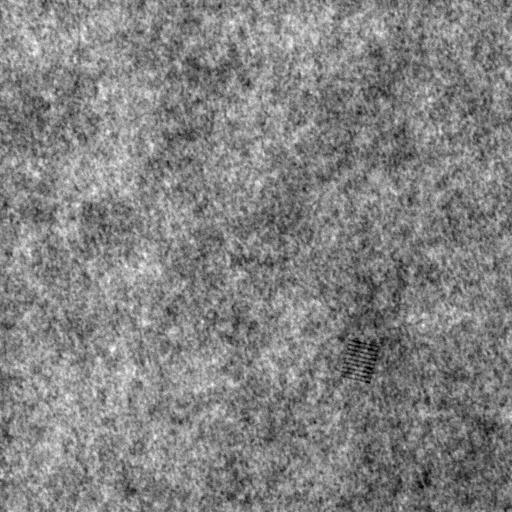impact: (338, 337, 382, 384)
